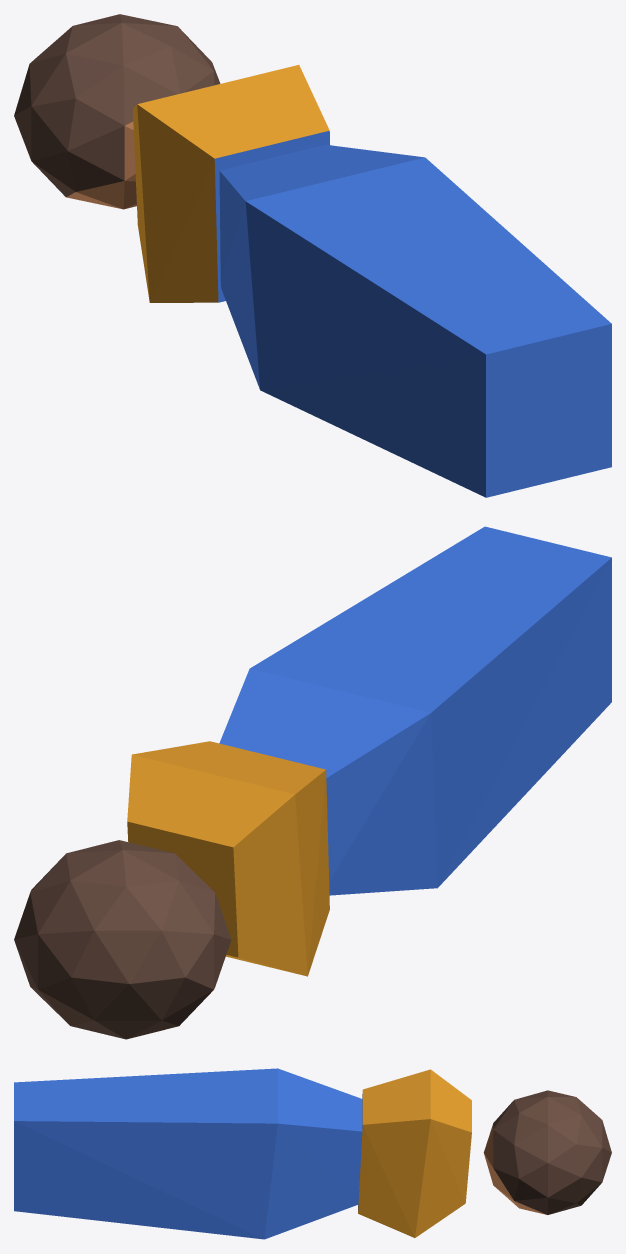
Rendered from woman5.dae.
3 views of the same model, one above another, from view 1: azimuth 30°, elevation 25°; view 2: azimuth 150°, elevation 25°; view 3: azimuth 270°, elevation 25° (orthographic). The views are drawn at different scales.
Visible parts, largest first — view 1: Cube.011; view 2: Cube.011; view 3: Cube.011.
Part boxes in pixels (bbox=[...]): Cube.011: bbox=[14, 14, 611, 497]; Cube.011: bbox=[14, 526, 611, 1039]; Cube.011: bbox=[14, 1068, 611, 1239].
Bounding box in the file's own units: 0.3364 × 1.51 × 0.3316.
